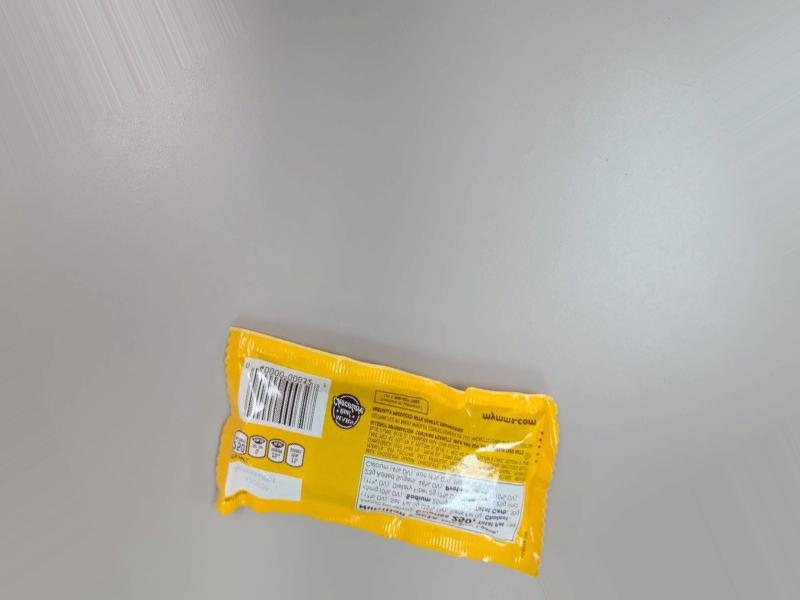m&m: (221, 328, 559, 573)
